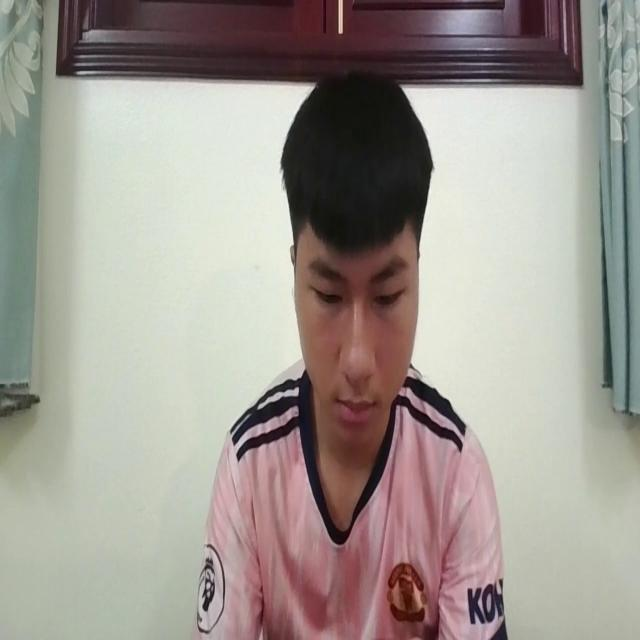student: (197, 69, 506, 640)
